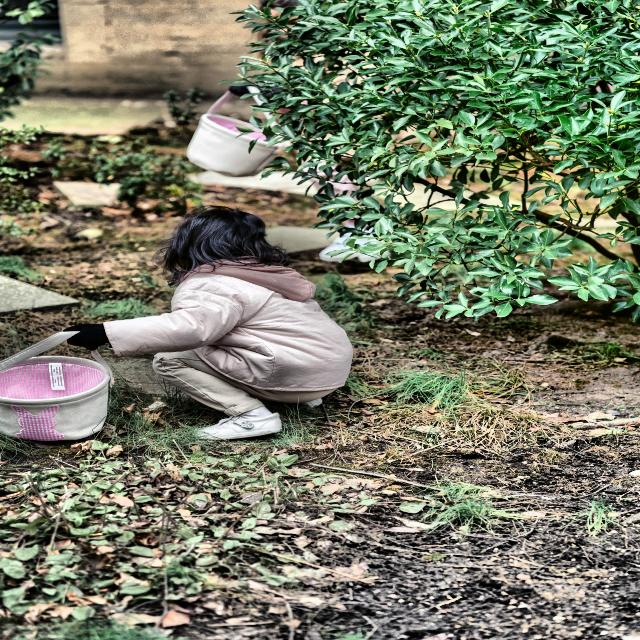Human: (74, 176, 373, 448)
